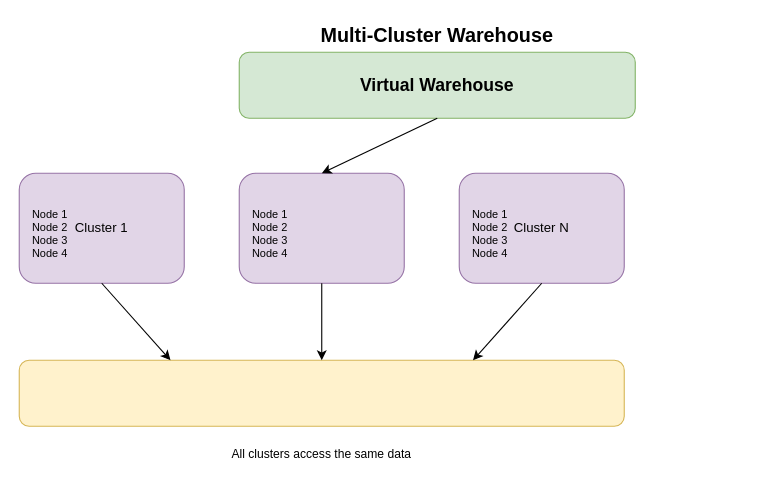
Image size: 765x488. Some labels were removed from this diagram. Each missing label, with the box of its shape:
Cluster 2: (238, 172, 404, 283)
Shared Storage Layer: (18, 359, 624, 426)
